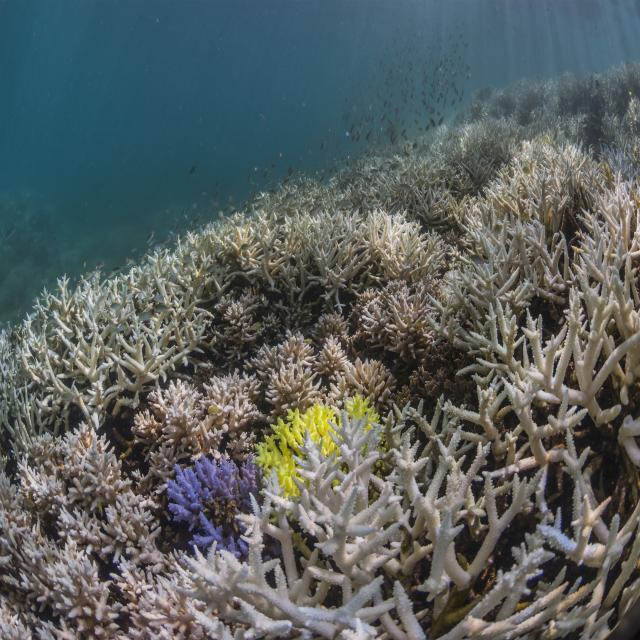Bleached Coral: (4, 254, 191, 396), (465, 489, 640, 640), (169, 541, 430, 640), (455, 140, 570, 343), (573, 162, 640, 439), (297, 417, 414, 574), (226, 179, 412, 276), (466, 336, 584, 472), (107, 492, 160, 565)
